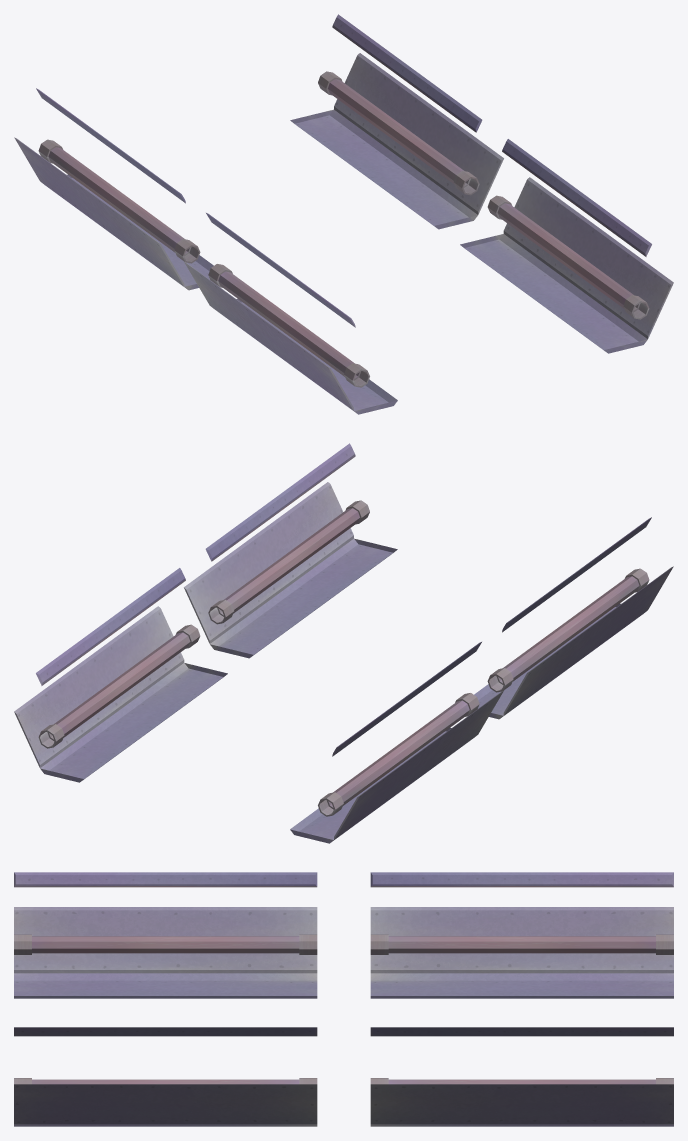
The model's file is cor_pipes_small.obj.
The picture shows the model from 3 angles, top to bottom: view 1: azimuth 30°, elevation 25°; view 2: azimuth 150°, elevation 25°; view 3: azimuth 270°, elevation 25°; orthographic projection. The views are drawn at different scales.
Parts seen in each view (by area): view 1: pipes_small_Circle; view 2: pipes_small_Circle; view 3: pipes_small_Circle.
Part boxes in pixels (<box>): pipes_small_Circle: <box>14,14,673,414</box>; pipes_small_Circle: <box>14,443,673,843</box>; pipes_small_Circle: <box>14,872,673,1126</box>.
Size of the model in its own units: 2.35 by 0.6425 by 3.7.
Materials: 1 (1 with a texture image).
